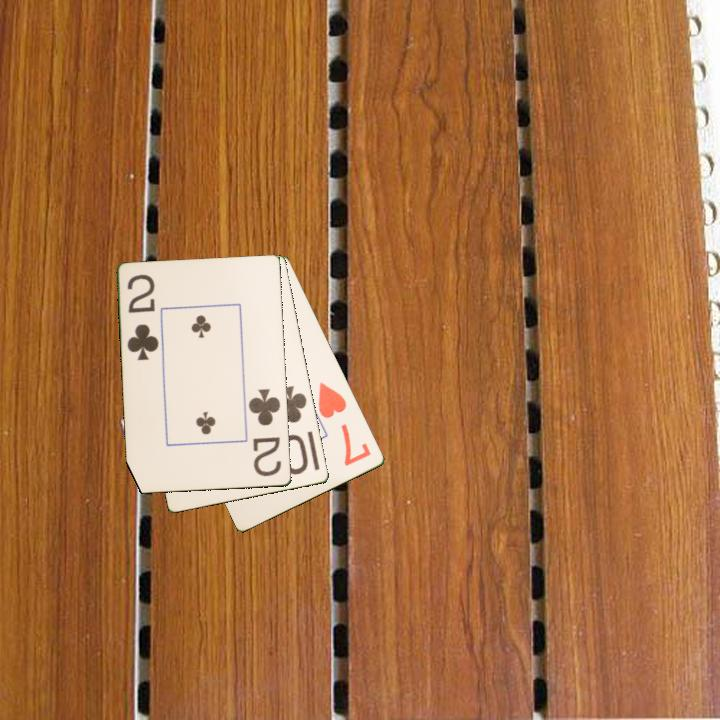10c: (272, 382, 311, 478)
2c: (245, 385, 285, 480), (124, 271, 162, 363)
7h: (315, 379, 374, 469)
